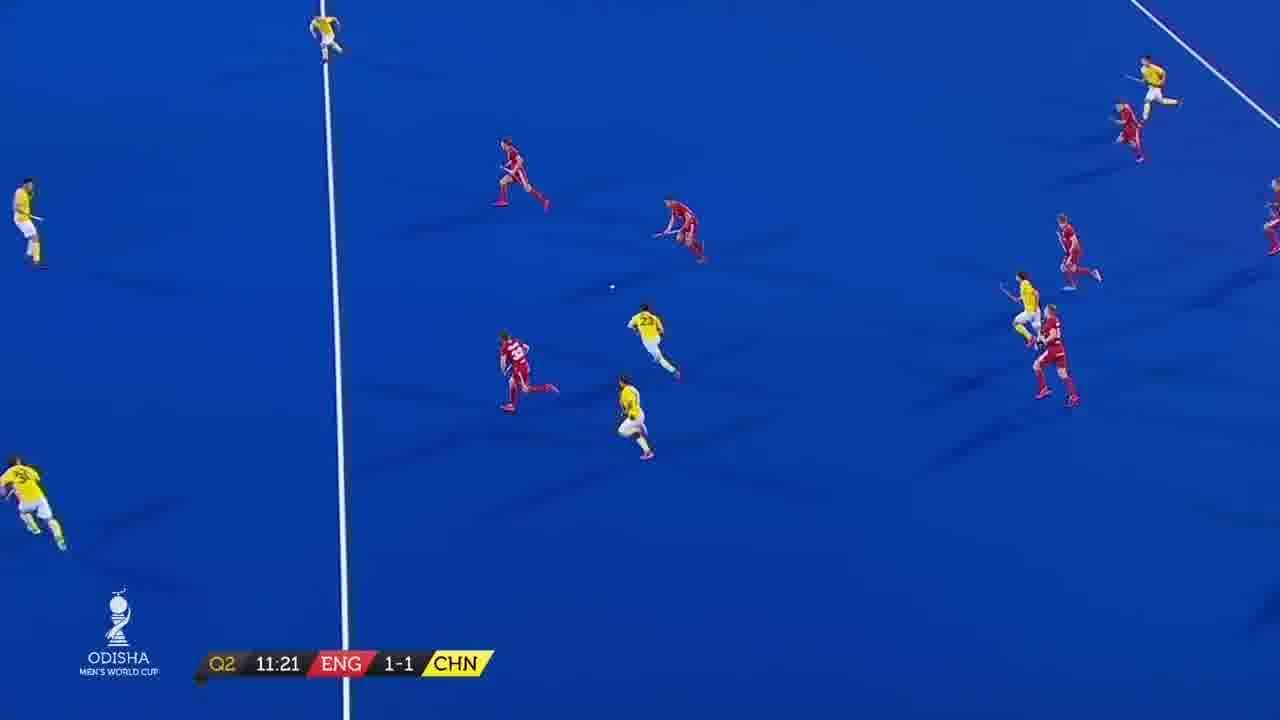ball: (604, 280, 624, 296)
